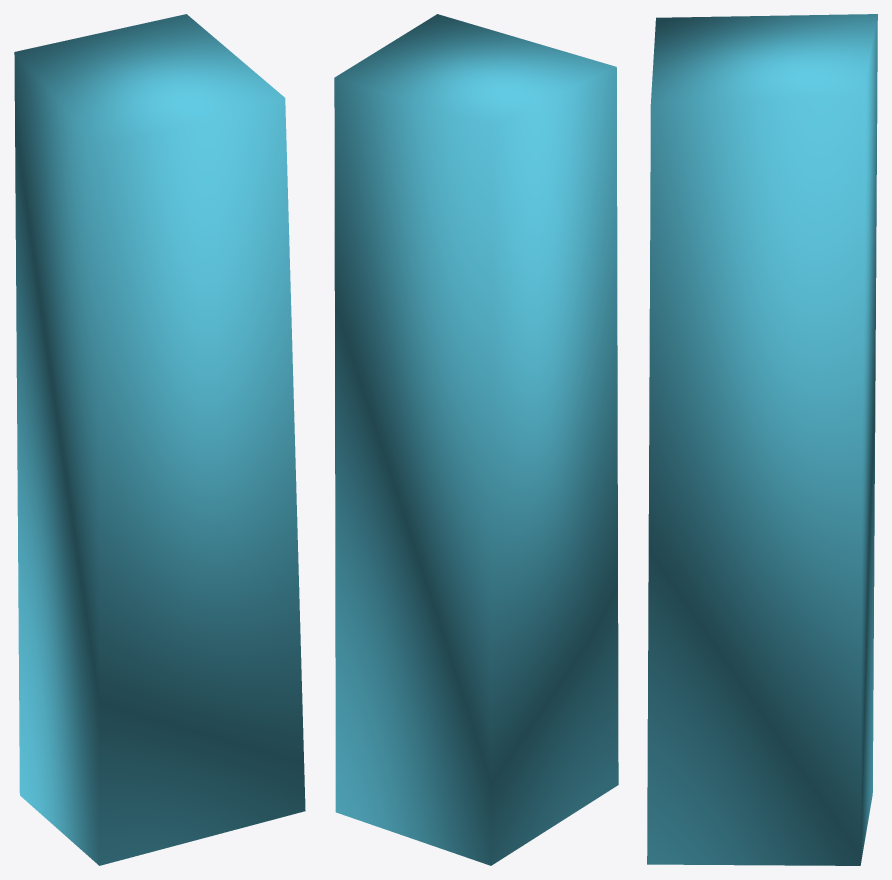
File: brick_01.FBX
3 renders of one model, left to right at view 1: azimuth 30°, elevation 25°; view 2: azimuth 150°, elevation 25°; view 3: azimuth 270°, elevation 25°, orthographic. The views are drawn at different scales.
Parts seen in each view (by area): view 1: brick_01; view 2: brick_01; view 3: brick_01.
Part boxes in pixels (<box>): brick_01: <box>14,14,305,865</box>; brick_01: <box>334,14,618,865</box>; brick_01: <box>647,14,877,865</box>.
Bounding box in the file's own units: 6.79 × 23.96 × 6.41.
